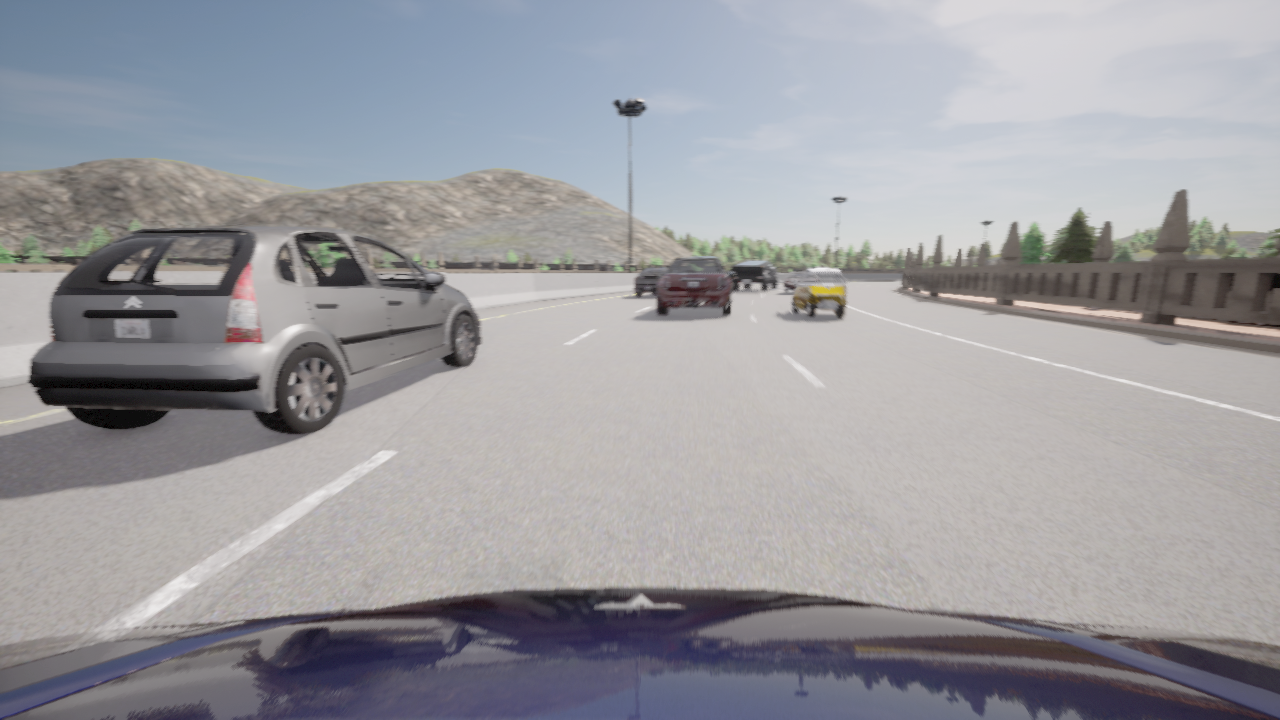cyclist: (0, 588, 1279, 719), (27, 226, 480, 434), (656, 256, 733, 316), (792, 268, 845, 318), (730, 260, 778, 291), (634, 267, 667, 296), (783, 272, 803, 293)
